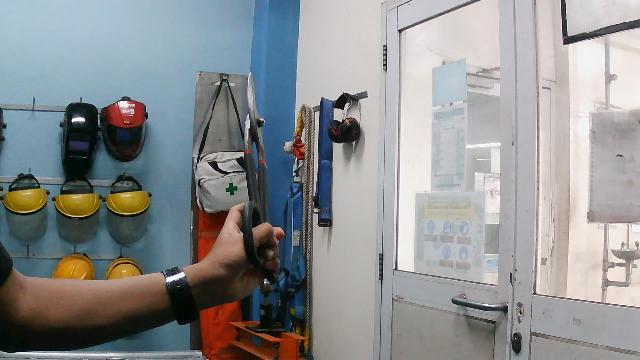gunting_plat: (235, 69, 286, 288)
